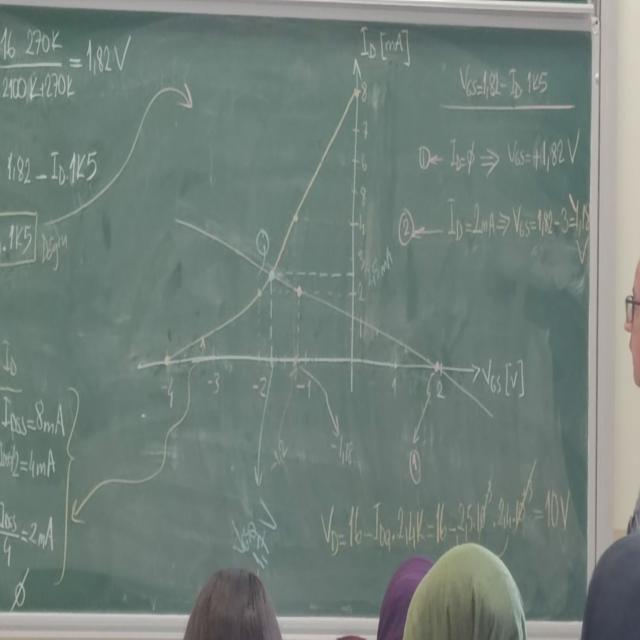image: (139, 12, 539, 430)
math: (312, 472, 573, 566), (0, 17, 134, 112), (414, 126, 584, 176), (444, 191, 593, 248), (0, 133, 104, 195), (222, 482, 282, 566), (0, 494, 62, 571), (452, 60, 556, 103), (0, 394, 71, 439), (0, 441, 60, 485)
